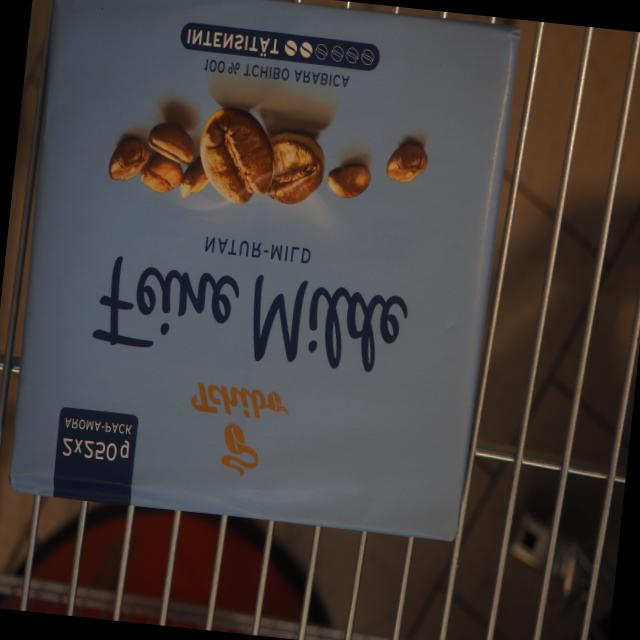FM Gemahlen: (4, 0, 526, 546)
